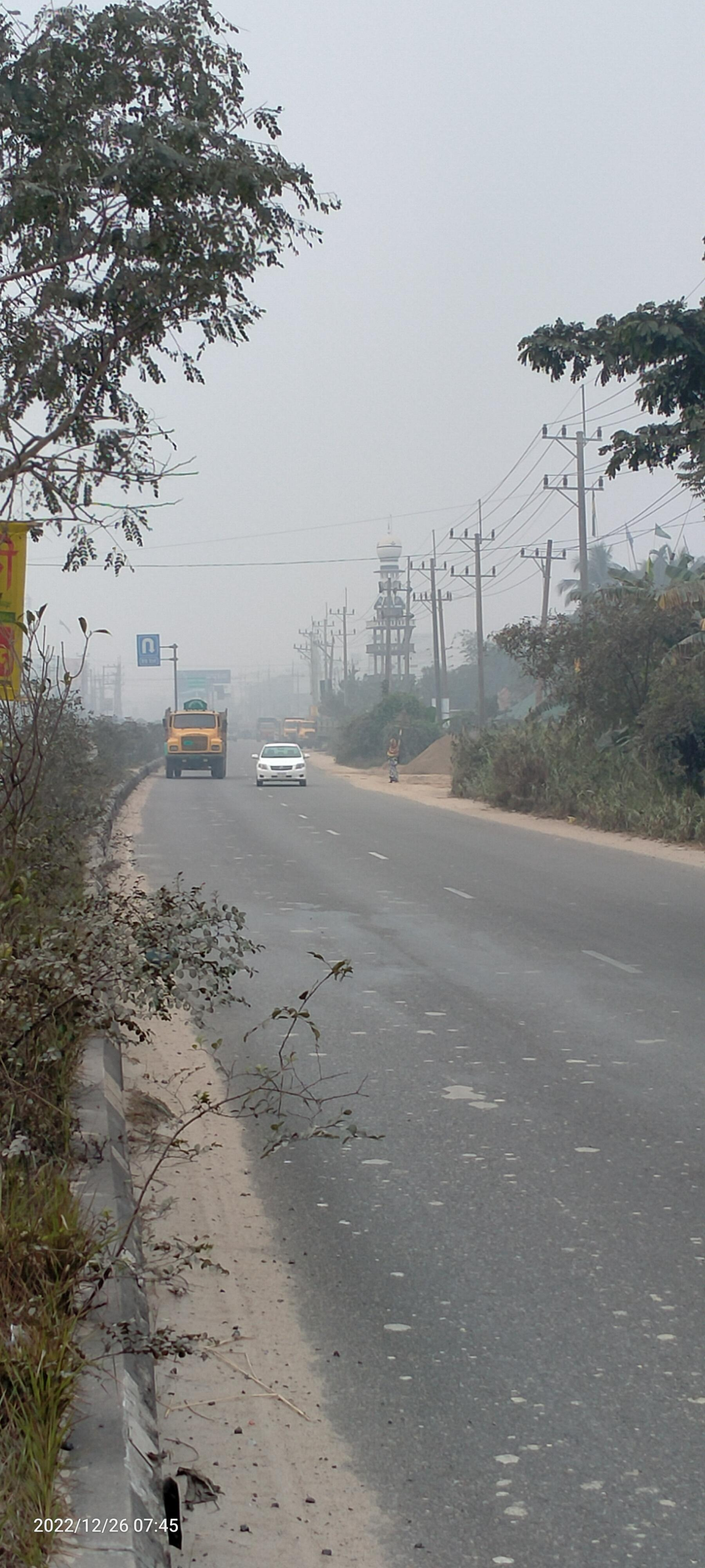Car: (251, 739, 316, 787)
Truck: (160, 695, 238, 788)
